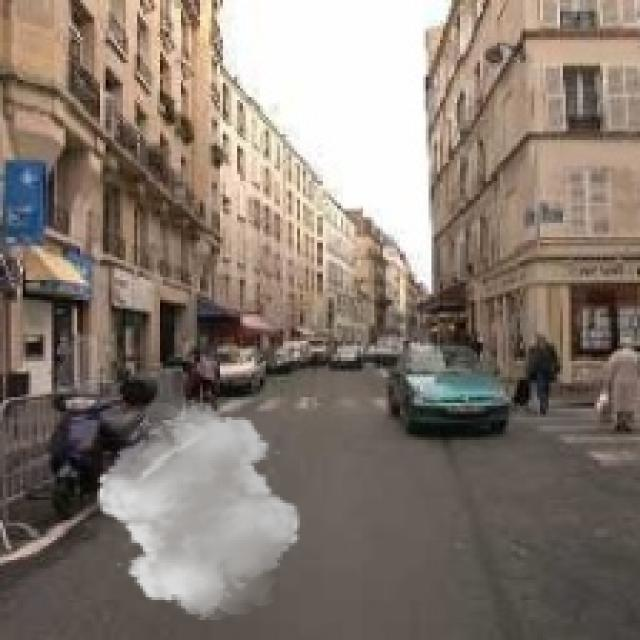Smoke: (89, 397, 308, 620)
